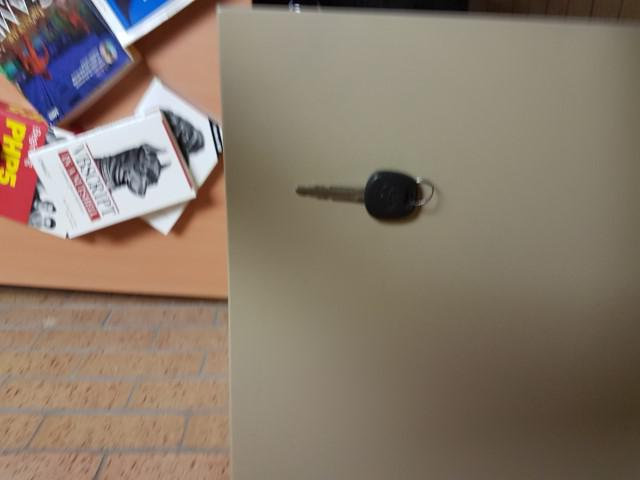key: (292, 161, 436, 227)
